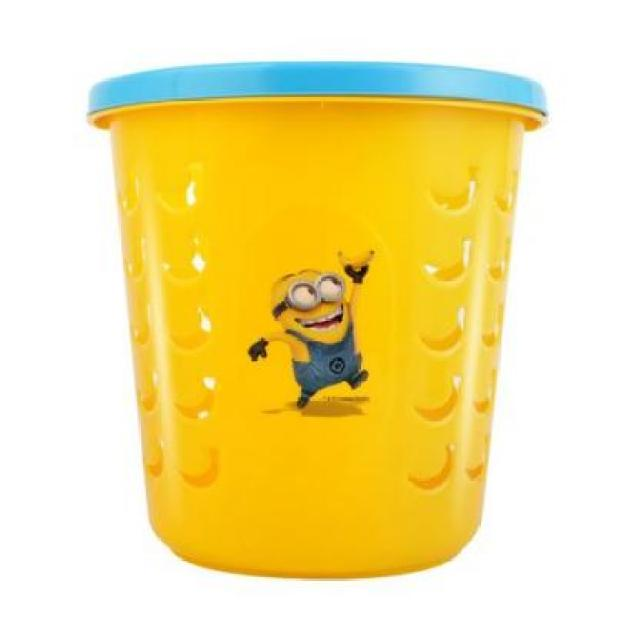dustbin: (80, 52, 555, 588)
